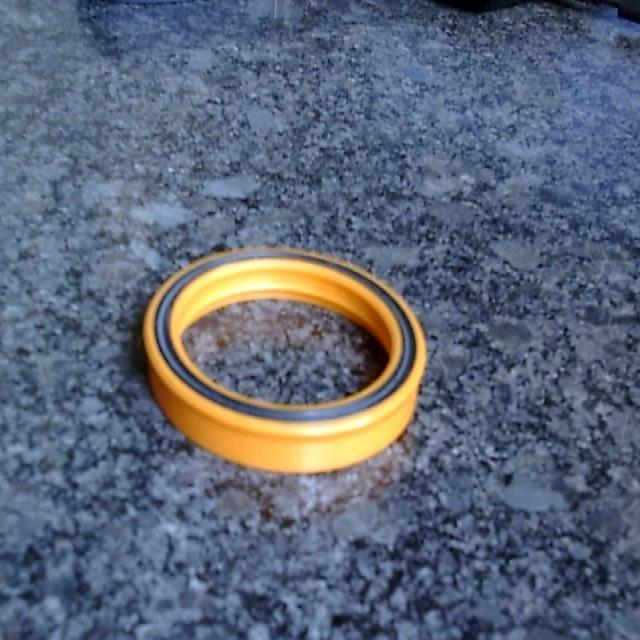orange-LW-ring: (144, 248, 426, 472)
